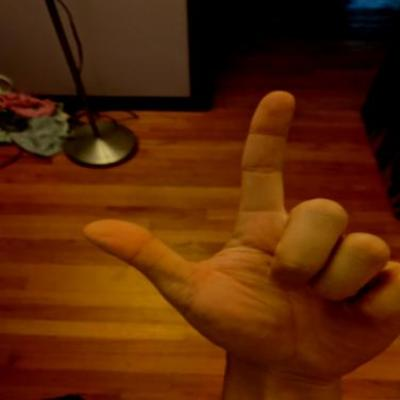hand: (60, 69, 399, 400)
